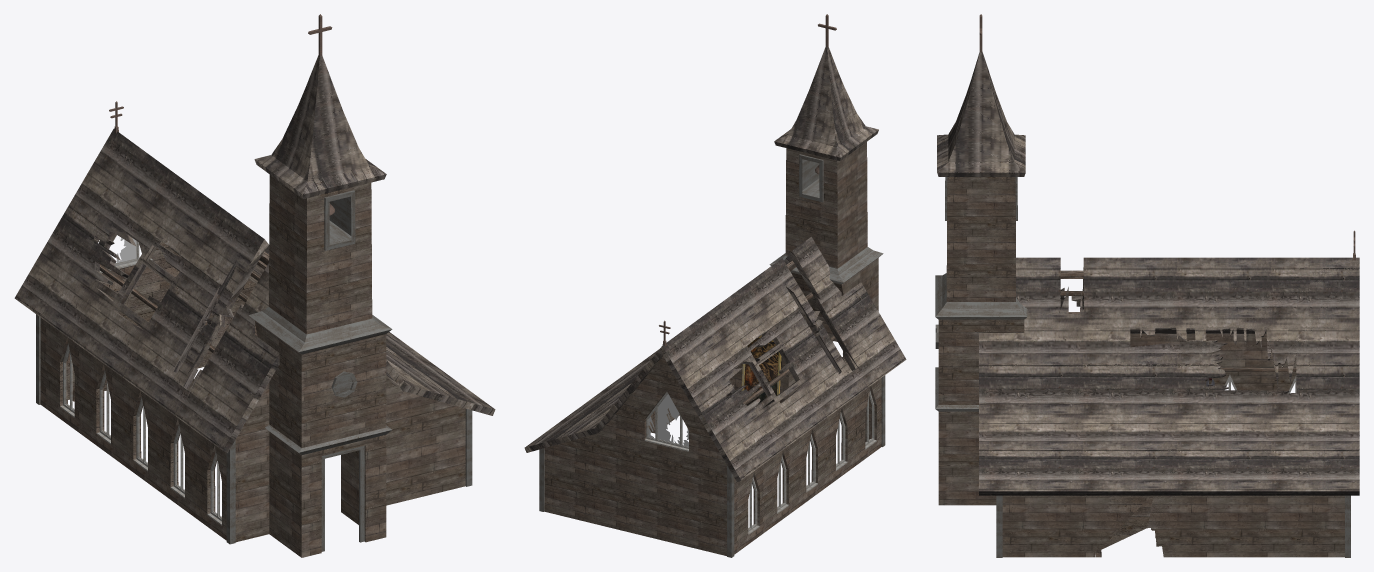
File: iglesia.obj
The picture shows the model from 3 angles, left to right: view 1: azimuth 30°, elevation 25°; view 2: azimuth 150°, elevation 25°; view 3: azimuth 270°, elevation 25°; orthographic projection. The views are drawn at different scales.
Parts seen in each view (by area): view 1: tejado, iglesia, torre, tejado_torre, DoorFrame, Cube.008, decor_torre, Cube.007; view 2: tejado, iglesia, torre, tejado_torre, Plane_Plane.001, Plane.006, Cube.010, Window.006; view 3: tejado, iglesia, torre, tejado_torre.
Boxes of the visible parts, x1=… form: tejado: x1=14, y1=129, x2=495, y2=452; iglesia: x1=40, y1=240, x2=465, y2=557; torre: x1=249, y1=174, x2=392, y2=437; tejado_torre: x1=254, y1=14, x2=386, y2=198; DoorFrame: x1=321, y1=445, x2=364, y2=551; Cube.008: x1=226, y1=440, x2=235, y2=544; decor_torre: x1=265, y1=424, x2=391, y2=454; Cube.007: x1=465, y1=409, x2=472, y2=486; tejado: x1=524, y1=236, x2=906, y2=482; iglesia: x1=544, y1=315, x2=881, y2=555; torre: x1=769, y1=142, x2=883, y2=316; tejado_torre: x1=774, y1=14, x2=878, y2=160; Plane_Plane.001: x1=741, y1=335, x2=781, y2=407; Plane.006: x1=648, y1=394, x2=688, y2=446; Cube.010: x1=727, y1=465, x2=734, y2=557; Window.006: x1=644, y1=392, x2=688, y2=451; tejado: x1=979, y1=257, x2=1359, y2=495; iglesia: x1=938, y1=334, x2=1344, y2=557; torre: x1=935, y1=177, x2=1027, y2=395; tejado_torre: x1=937, y1=14, x2=1025, y2=176.
Size of the model in its own units: 9.51 by 17.26 by 14.
15 materials, 14 textured.
